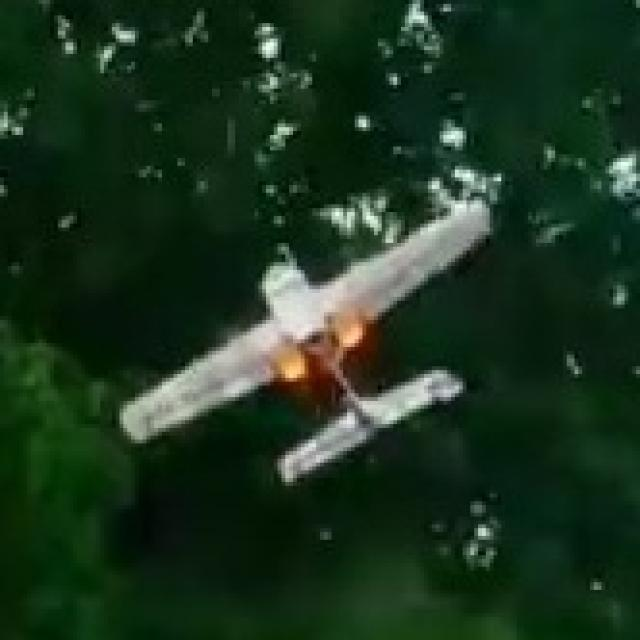iha: (119, 164, 524, 480)
